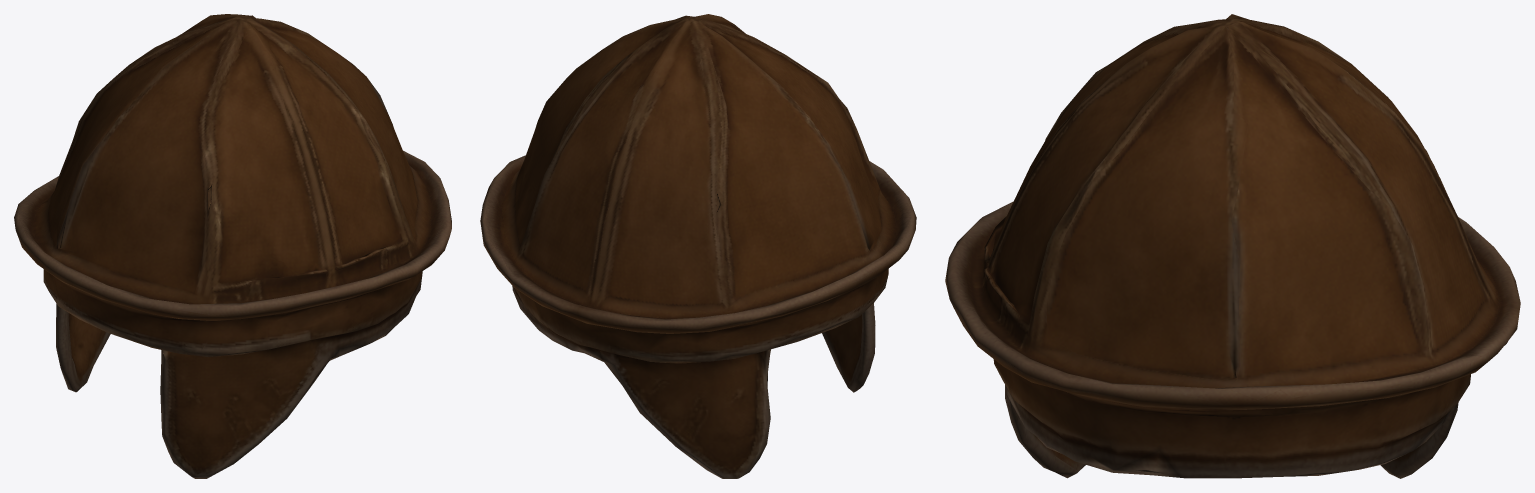
Rendered from cap.glb.
3 renders of one model, left to right at view 1: azimuth 30°, elevation 25°; view 2: azimuth 150°, elevation 25°; view 3: azimuth 270°, elevation 25°, orthographic. The views are drawn at different scales.
Parts seen in each view (by area): view 1: geometry_0; view 2: geometry_0; view 3: geometry_0.
Part boxes in pixels (x1,y1,x2,y2): geometry_0: (14, 14, 451, 478); geometry_0: (480, 14, 916, 478); geometry_0: (945, 14, 1520, 478).
Size of the model in its own units: 0.9967 by 0.9672 by 0.971.
Materials: 1 (1 with a texture image).
